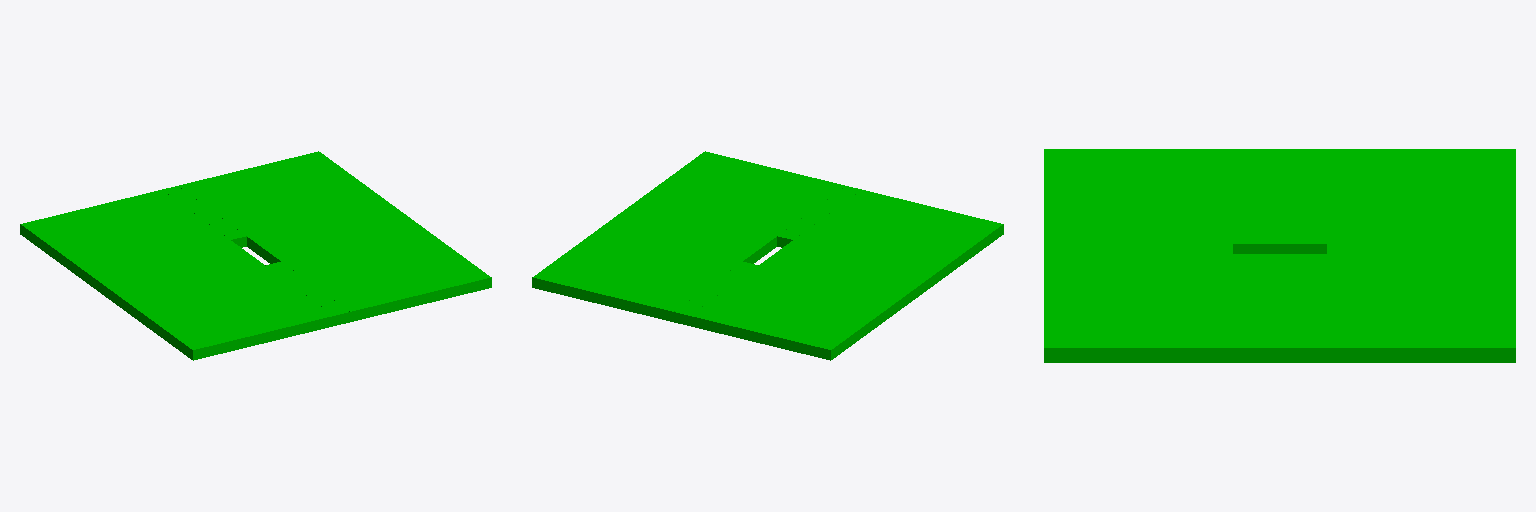
The robot description file, URDF, robot "decor":
<?xml version="1.0"?>
<robot name="decor"> <!-- puzzle hard environment, slot size=0.16x0.6 -->
  <material name="Green">
    <color rgba="0 0.8 0 0.5"/>
  </material>
  
  <link name="decor_base">
    <visual>
      <origin xyz="-0.79 0 -0.05"/>
      <geometry>
        <box size="1.42 3 0.1" />
      </geometry>
      <material name="Green"/>
    </visual>
    <collision>
      <origin xyz="-0.79 0 -0.05"/>
      <geometry>
        <box size="1.42 3 0.1" />
      </geometry>
    </collision>
  </link>
  
  <joint name="j_decor_one" type="fixed">
    <parent link="decor_base"/>
    <child link="l_decor_one"/>
    <origin rpy="0 0 0" xyz="0 0 0"/>
  </joint>
        
  <link name="l_decor_one">
    <visual>
      <origin xyz="0.79 0 -0.05"/>
      <geometry>
        <box size="1.42 3 0.1" />
      </geometry>
      <material name="Green"/>
    </visual>
    <collision>
      <origin xyz="0.79 0 -0.05"/>
      <geometry>
        <box size="1.42 3 0.1" />
      </geometry>
    </collision>
  </link>
  
  
  <joint name="j_decor_two" type="fixed">
    <parent link="l_decor_one"/>
    <child link="l_decor_two"/>
    <origin rpy="0 0 0" xyz="0 0 0"/>
  </joint>
        
  <link name="l_decor_two">
    <visual>
      <origin xyz="0 -0.9 -0.05"/>
      <geometry>
        <box size="0.159 1.2 0.1" />
      </geometry>
      <material name="Green"/>
    </visual>
    <collision>
      <origin xyz="0 -0.9 -0.05"/>
      <geometry>
        <box size="0.159 1.2 0.1" />
      </geometry>
    </collision>   
  </link>
  
  
  <joint name="j_decor_three" type="fixed">
    <parent link="l_decor_two"/>
    <child link="l_decor_three"/>
    <origin rpy="0 0 0" xyz="0 0 0"/>
  </joint>
        
  <link name="l_decor_three">
    <visual>
      <origin xyz="0 0.9 -0.05"/>
      <geometry>
        <box size="0.159 1.2 0.1" />
      </geometry>
      <material name="Green"/>
    </visual>
    <collision>
      <origin xyz="0 0.9 -0.05"/>
      <geometry>
        <box size="0.159 1.2 0.1" />
      </geometry>
    </collision>   
  </link>
</robot>

--- What the picture shows (computed from the rendered views, not written in the file) ---
The picture shows the robot from 3 angles, left to right: view 1: azimuth 30°, elevation 25°; view 2: azimuth 150°, elevation 25°; view 3: azimuth 270°, elevation 25°; orthographic projection.
Model decor with 4 links and 3 joints (3 fixed), rooted at decor_base, posed all joints at 0.
Visible links, largest first — view 1: decor_base, l_decor_one, l_decor_two, l_decor_three; view 2: decor_base, l_decor_one, l_decor_three, l_decor_two; view 3: l_decor_one, decor_base, l_decor_two, l_decor_three.
Link boxes in pixels (bbox=[...]): decor_base: bbox=[20, 190, 333, 360]; l_decor_one: bbox=[179, 151, 491, 321]; l_decor_two: bbox=[265, 262, 349, 325]; l_decor_three: bbox=[162, 186, 246, 247]; decor_base: bbox=[690, 190, 1003, 360]; l_decor_one: bbox=[532, 151, 844, 321]; l_decor_three: bbox=[674, 262, 758, 325]; l_decor_two: bbox=[777, 186, 861, 247]; l_decor_one: bbox=[1044, 254, 1515, 362]; decor_base: bbox=[1044, 149, 1515, 253]; l_decor_two: bbox=[1044, 244, 1232, 253]; l_decor_three: bbox=[1327, 244, 1515, 253].
Bounding box of the posed robot: 3 × 3 × 0.1 m (x, y, z).
Geometry: primitives only (box / cylinder / sphere), no mesh files.
